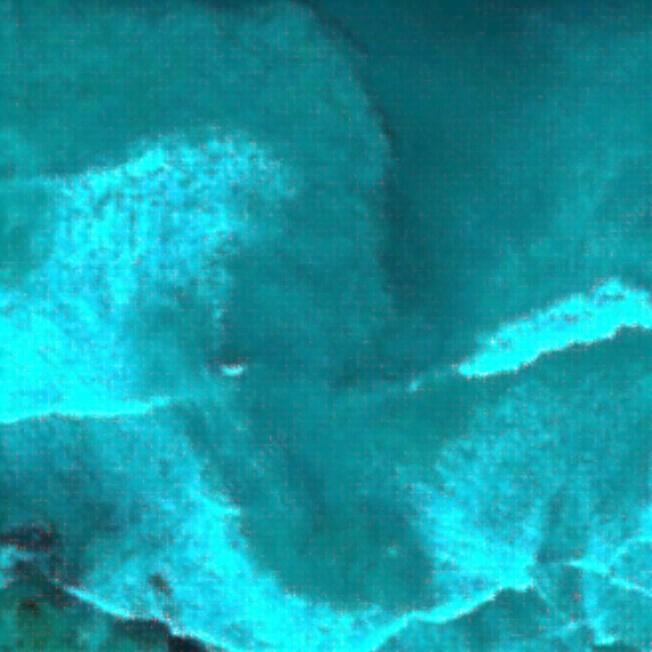rip_current: (116, 87, 505, 581)
